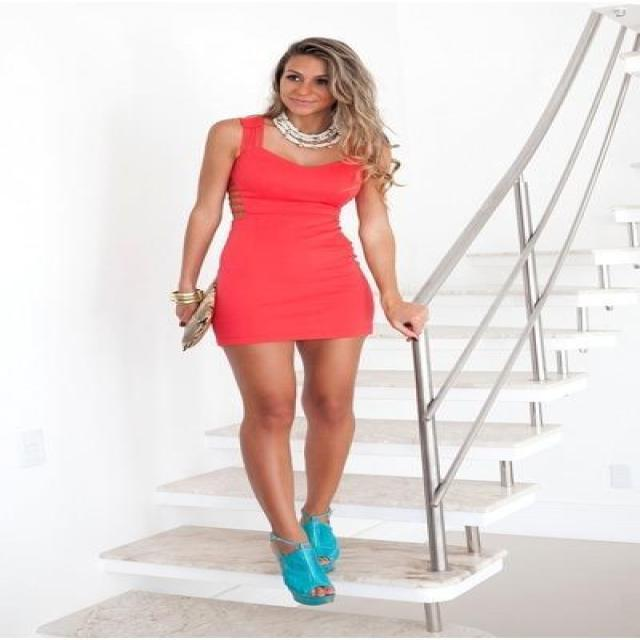bag: (176, 298, 211, 344)
dress: (211, 115, 373, 345)
shoe: (270, 504, 338, 605)
